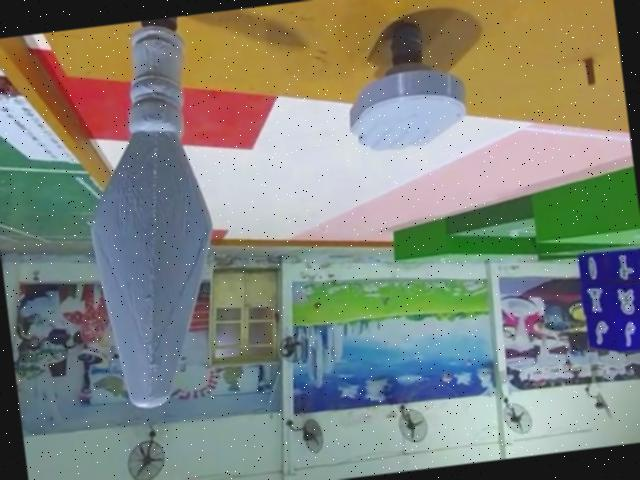Hand: (336, 17, 469, 157)
Sph: (63, 14, 242, 415)
